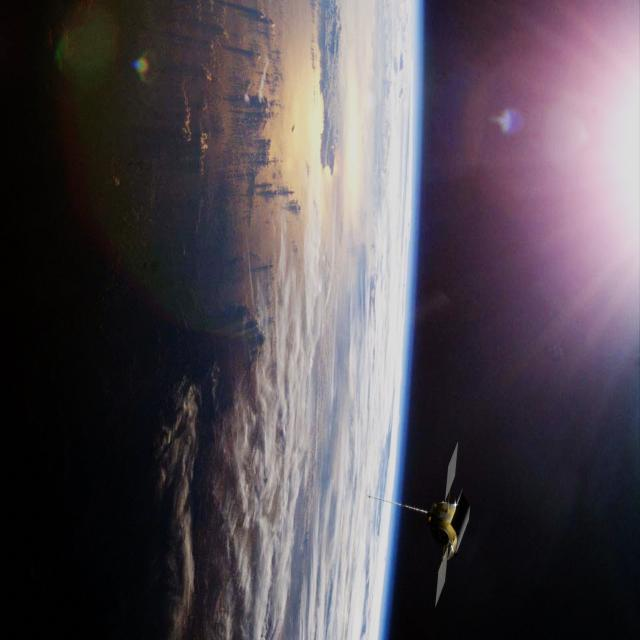satellite: (403, 427, 513, 610)
